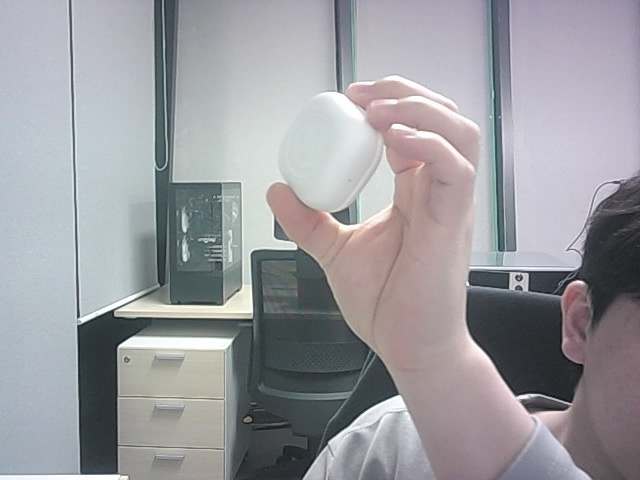case: (279, 92, 382, 212)
